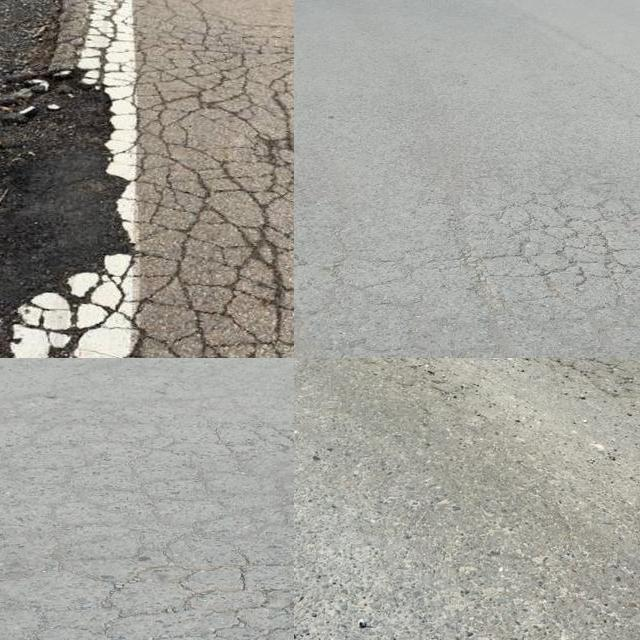Pinggir: (0, 34, 134, 309)
Retak Buaya: (3, 0, 294, 358), (31, 537, 294, 640), (484, 185, 640, 319)
